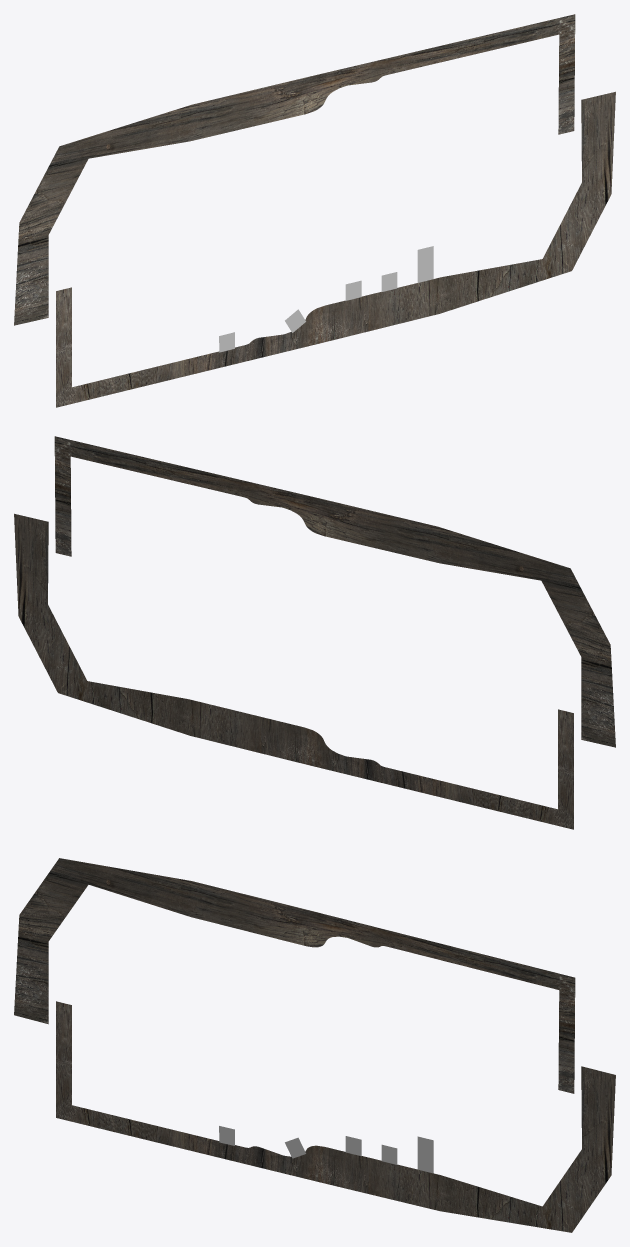
The model's file is test_map.glb.
3 views of the same model, one above another, from view 1: azimuth 30°, elevation 25°; view 2: azimuth 150°, elevation 25°; view 3: azimuth 330°, elevation 25° (orthographic).
Parts seen in each view (by area): view 1: br_Ceiling, br_Ground, sp_Player; view 2: br_Ceiling, br_Ground; view 3: br_Ceiling, br_Ground, sp_Player.
Boxes of the visible parts, left/top/right/bottom form: br_Ceiling: left=14, top=14, right=575, bottom=325; br_Ground: left=56, top=91, right=615, bottom=407; sp_Player: left=417, top=246, right=433, bottom=282; br_Ceiling: left=54, top=436, right=615, bottom=747; br_Ground: left=14, top=513, right=573, bottom=829; br_Ceiling: left=14, top=858, right=575, bottom=1093; br_Ground: left=56, top=1001, right=615, bottom=1232; sp_Player: left=417, top=1136, right=433, bottom=1173.
Bounding box in the file's own units: 75.93 × 32.55 × 0.0016.
2 materials, 2 textured.
